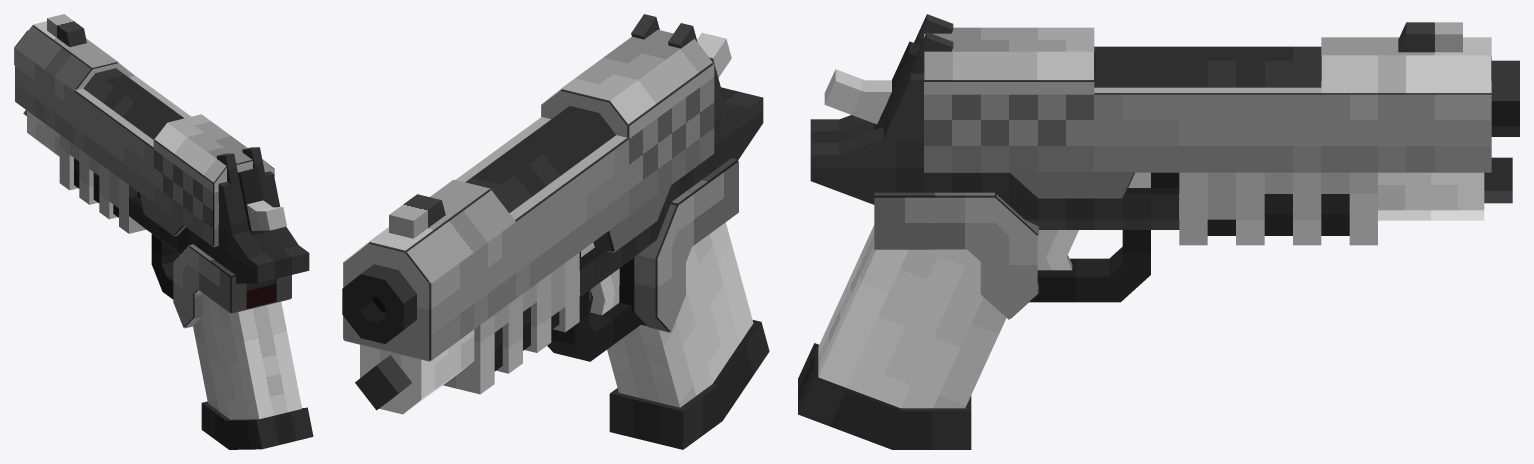
The model's file is cad.obj.
The picture shows the model from 3 angles, left to right: view 1: azimuth 30°, elevation 25°; view 2: azimuth 150°, elevation 25°; view 3: azimuth 270°, elevation 25°; orthographic projection. The views are drawn at different scales.
Visible parts, largest first — view 1: cad_glow, obj63, obj14, obj33, obj65, obj21, obj31, obj67, obj51, obj12, obj59, obj19 (+14 smaller); view 2: cad_glow, obj63, obj8, obj65, obj67, obj126, obj51, obj14, obj62, obj39, obj92, obj119 (+25 smaller); view 3: cad_glow, obj63, obj69, obj51, obj14, obj126, obj59, obj35, obj67, obj8, obj33, obj39 (+21 smaller).
Part boxes in pixels (x1,y1,x2,y2): cad_glow: [15, 21, 291, 328]; obj63: [193, 293, 301, 419]; obj14: [223, 407, 313, 449]; obj33: [228, 243, 309, 282]; obj65: [83, 73, 165, 139]; obj21: [219, 174, 280, 264]; obj31: [218, 217, 298, 257]; obj67: [95, 68, 183, 124]; obj51: [109, 184, 191, 253]; obj12: [189, 246, 276, 312]; obj59: [69, 142, 137, 197]; obj19: [238, 168, 269, 235]; cad_glow: [343, 29, 738, 361]; obj63: [607, 222, 753, 407]; obj8: [609, 383, 722, 449]; obj65: [492, 113, 615, 212]; obj67: [465, 106, 598, 190]; obj126: [360, 329, 474, 399]; obj51: [551, 204, 670, 316]; obj14: [712, 320, 769, 420]; obj62: [443, 314, 494, 394]; obj39: [589, 298, 642, 361]; obj92: [389, 194, 441, 238]; obj119: [355, 355, 411, 410]; cad_glow: [874, 27, 1491, 319]; obj63: [818, 225, 1006, 408]; obj69: [1094, 61, 1321, 87]; obj51: [995, 188, 1235, 219]; obj14: [798, 343, 900, 449]; obj126: [1378, 172, 1484, 210]; obj59: [1179, 172, 1349, 193]; obj35: [895, 142, 1032, 193]; obj67: [1094, 46, 1321, 60]; obj8: [892, 395, 971, 449]; obj33: [810, 119, 895, 181]; obj39: [1029, 258, 1120, 302].
Size of the model in its own units: 3.6 by 15.79 by 25.44.
